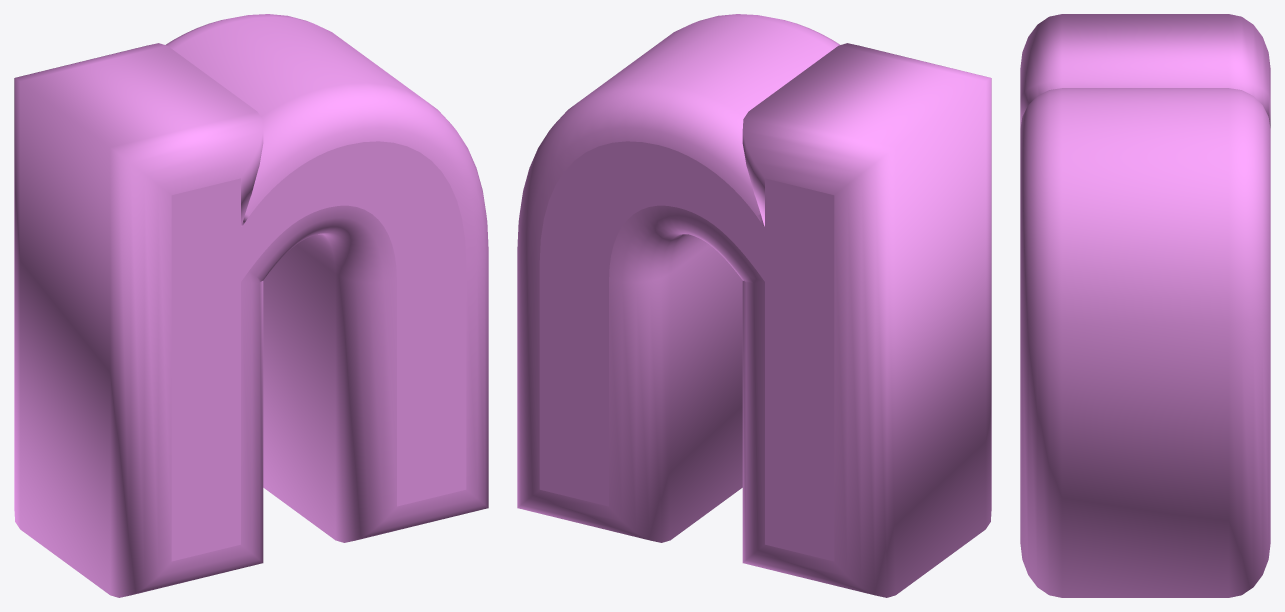
3 views of the same model, side by side, from view 1: azimuth 30°, elevation 25°; view 2: azimuth 150°, elevation 25°; view 3: azimuth 270°, elevation 25° (orthographic). The views are drawn at different scales.
Parts seen in each view (by area): view 1: Text; view 2: Text; view 3: Text.
Part boxes in pixels (bbox=[...]): Text: bbox=[14, 14, 488, 597]; Text: bbox=[517, 14, 991, 597]; Text: bbox=[1020, 14, 1270, 597].
Size of the model in its own units: 1.43 by 1.67 by 0.9.
